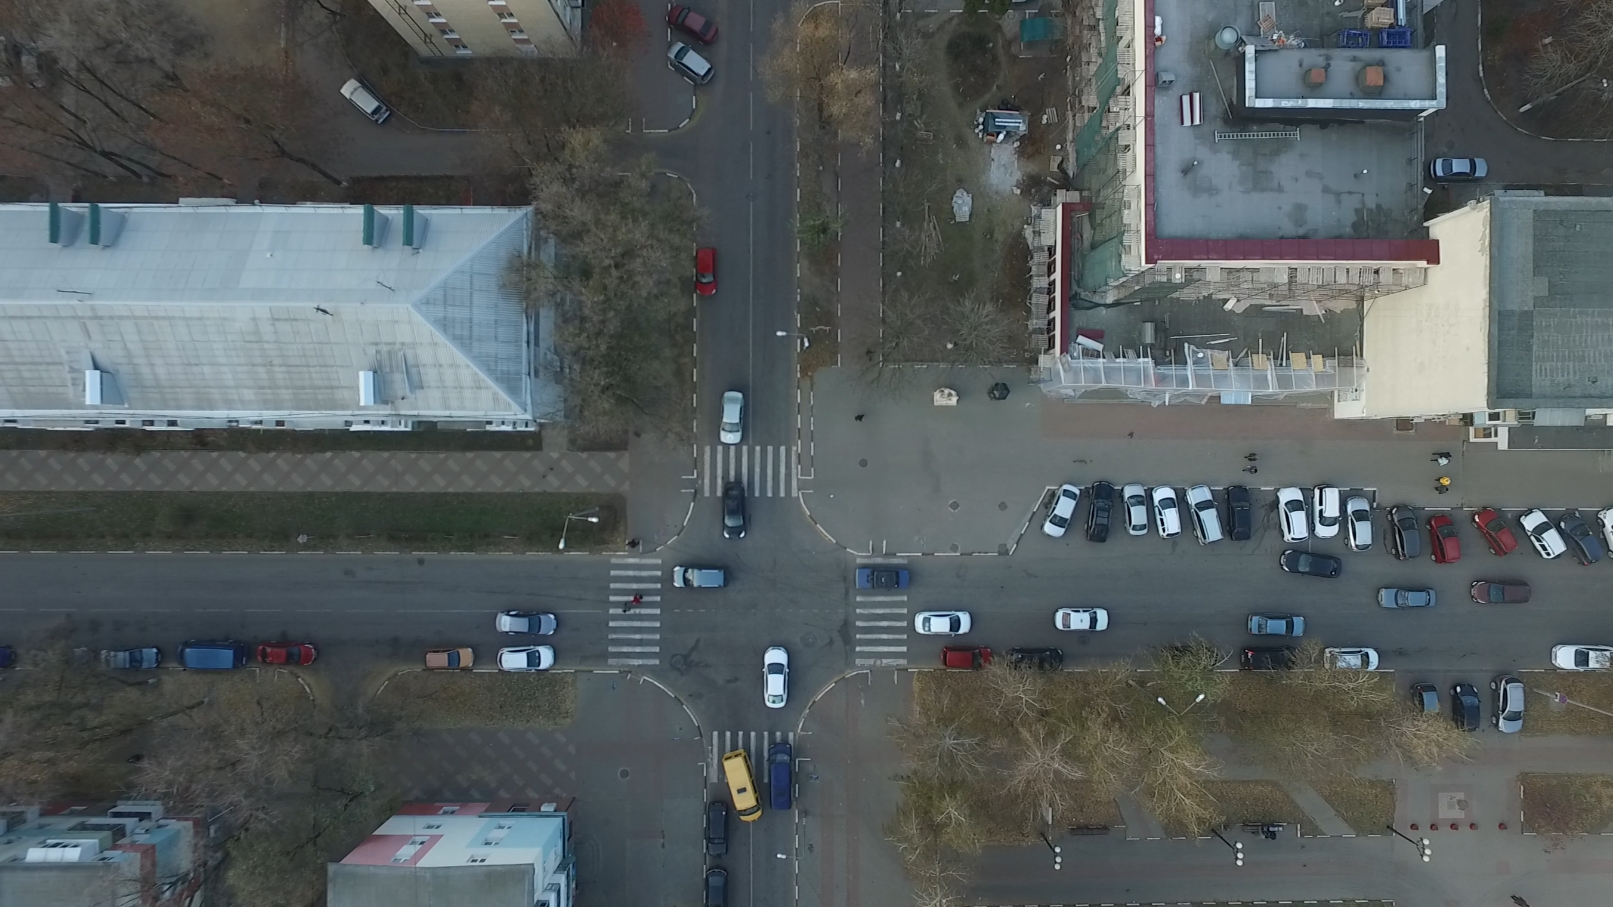car: (721, 748, 764, 822), (1518, 503, 1569, 559), (339, 78, 395, 126), (1185, 481, 1227, 545), (1559, 507, 1607, 563), (1475, 502, 1521, 559), (1491, 668, 1530, 731), (181, 640, 254, 673), (1044, 481, 1085, 537), (668, 3, 721, 47), (1083, 478, 1119, 542), (1389, 499, 1426, 560), (1426, 508, 1465, 564), (1153, 481, 1190, 539), (670, 41, 717, 85), (1280, 483, 1314, 543), (1223, 482, 1256, 542), (768, 739, 794, 812), (1278, 550, 1340, 580), (762, 645, 791, 709), (261, 640, 322, 670), (499, 643, 556, 674), (493, 611, 557, 639), (1164, 642, 1224, 671), (1555, 645, 1613, 674), (914, 610, 972, 639), (1348, 493, 1377, 550), (1314, 480, 1343, 537), (1006, 645, 1066, 672), (1123, 480, 1153, 535), (34, 649, 99, 674), (1453, 679, 1486, 730), (1054, 606, 1112, 633), (1322, 647, 1380, 674), (723, 481, 750, 540), (1431, 154, 1490, 181), (102, 649, 165, 673), (1246, 612, 1306, 638), (1469, 580, 1530, 605), (1414, 678, 1445, 724), (672, 566, 729, 591), (1244, 648, 1305, 671), (941, 645, 993, 671), (720, 389, 744, 445), (705, 798, 728, 857), (425, 648, 477, 673), (1379, 585, 1434, 608), (855, 567, 911, 589), (695, 247, 718, 298), (707, 863, 731, 905), (1, 649, 22, 672)
